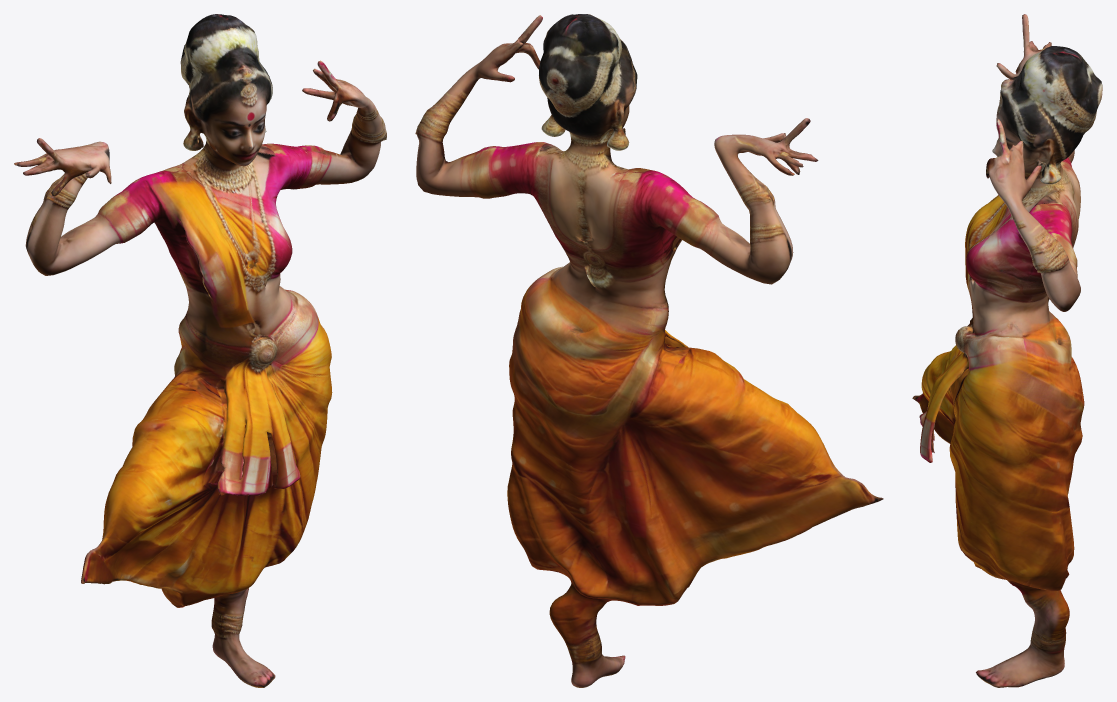
3 renders of one model, left to right at view 1: azimuth 30°, elevation 25°; view 2: azimuth 150°, elevation 25°; view 3: azimuth 270°, elevation 25°, orthographic. The views are drawn at different scales.
Parts seen in each view (by area): view 1: Mesh_0; view 2: Mesh_0; view 3: Mesh_0.
Boxes of the visible parts, x1,y1,x2,y2 form: Mesh_0: (14, 14, 386, 687); Mesh_0: (415, 14, 883, 687); Mesh_0: (912, 14, 1102, 687).
Bounding box in the file's own units: 1.21 × 2 × 0.5476.
1 material, 1 textured.
